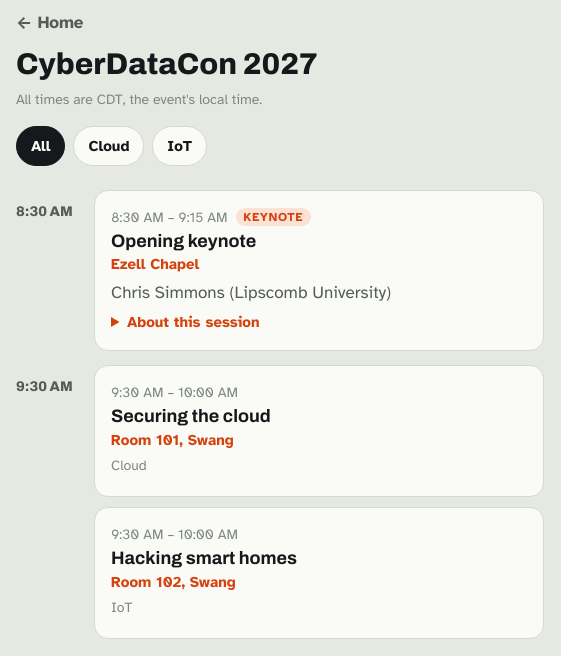
Test: shows the agenda in Nashville time and filters by track
Expected: the heading "Opening keynote" is shown, x1=111 y1=230 x2=256 y2=250
Expected: the text "Chris Simmons (Lipscomb University)" is shown, x1=111 y1=282 x2=391 y2=303
Click the button "IoT". click: point(180, 146)
box: x1=152 y1=126 x2=207 y2=166
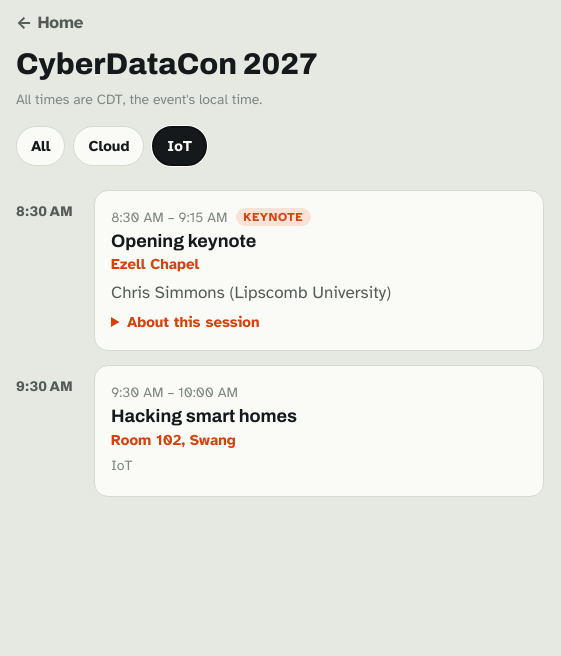
Expected: the heading "Hacking smart homes" is shown, x1=111 y1=406 x2=297 y2=426
Expected: the heading "Securing the cloud" is gone
